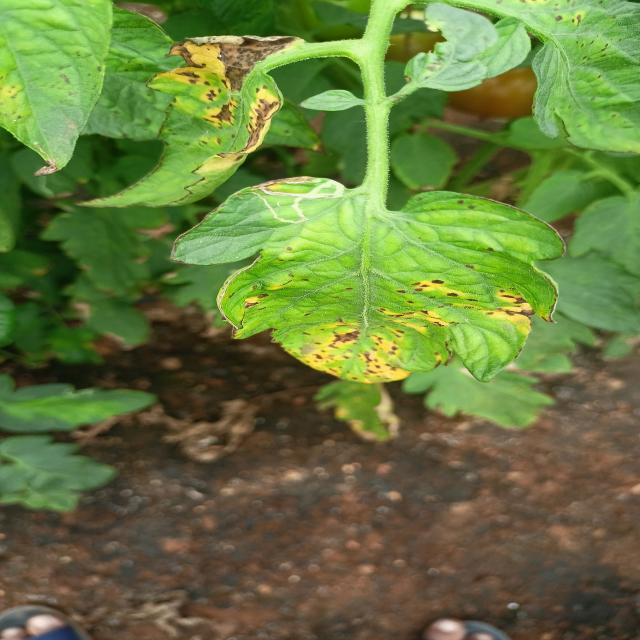Tomato mosaic virus leaf: (212, 260, 562, 388), (103, 30, 301, 174)
